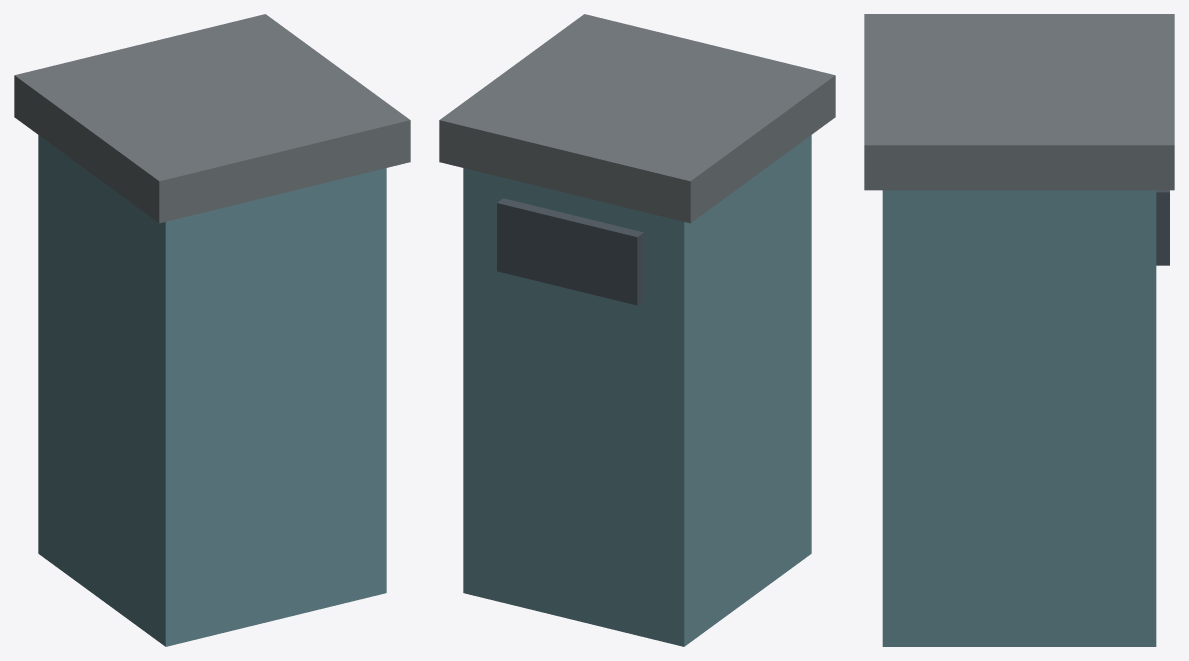
File: rubbish_bin.glb
3 renders of one model, left to right at view 1: azimuth 30°, elevation 25°; view 2: azimuth 150°, elevation 25°; view 3: azimuth 270°, elevation 25°, orthographic. The views are drawn at different scales.
Visible parts, largest first — view 1: body; view 2: body; view 3: body.
Part boxes in pixels (bbox=[...]): body: bbox=[14, 14, 410, 646]; body: bbox=[439, 14, 835, 646]; body: bbox=[864, 14, 1174, 646].
Size of the model in its own units: 0.5 by 0.905 by 0.5.
